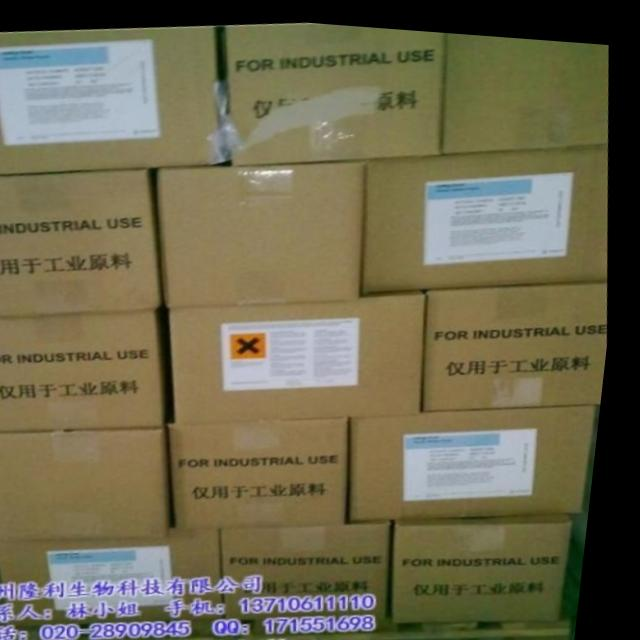box: (368, 135, 611, 286), (0, 24, 234, 174), (172, 283, 432, 417), (223, 19, 445, 160), (160, 153, 367, 303), (359, 393, 607, 515), (8, 525, 234, 640), (0, 166, 170, 314), (433, 270, 612, 401), (0, 306, 173, 431), (0, 423, 181, 540), (178, 409, 356, 525), (404, 504, 587, 616), (444, 26, 609, 146), (232, 514, 404, 629)
